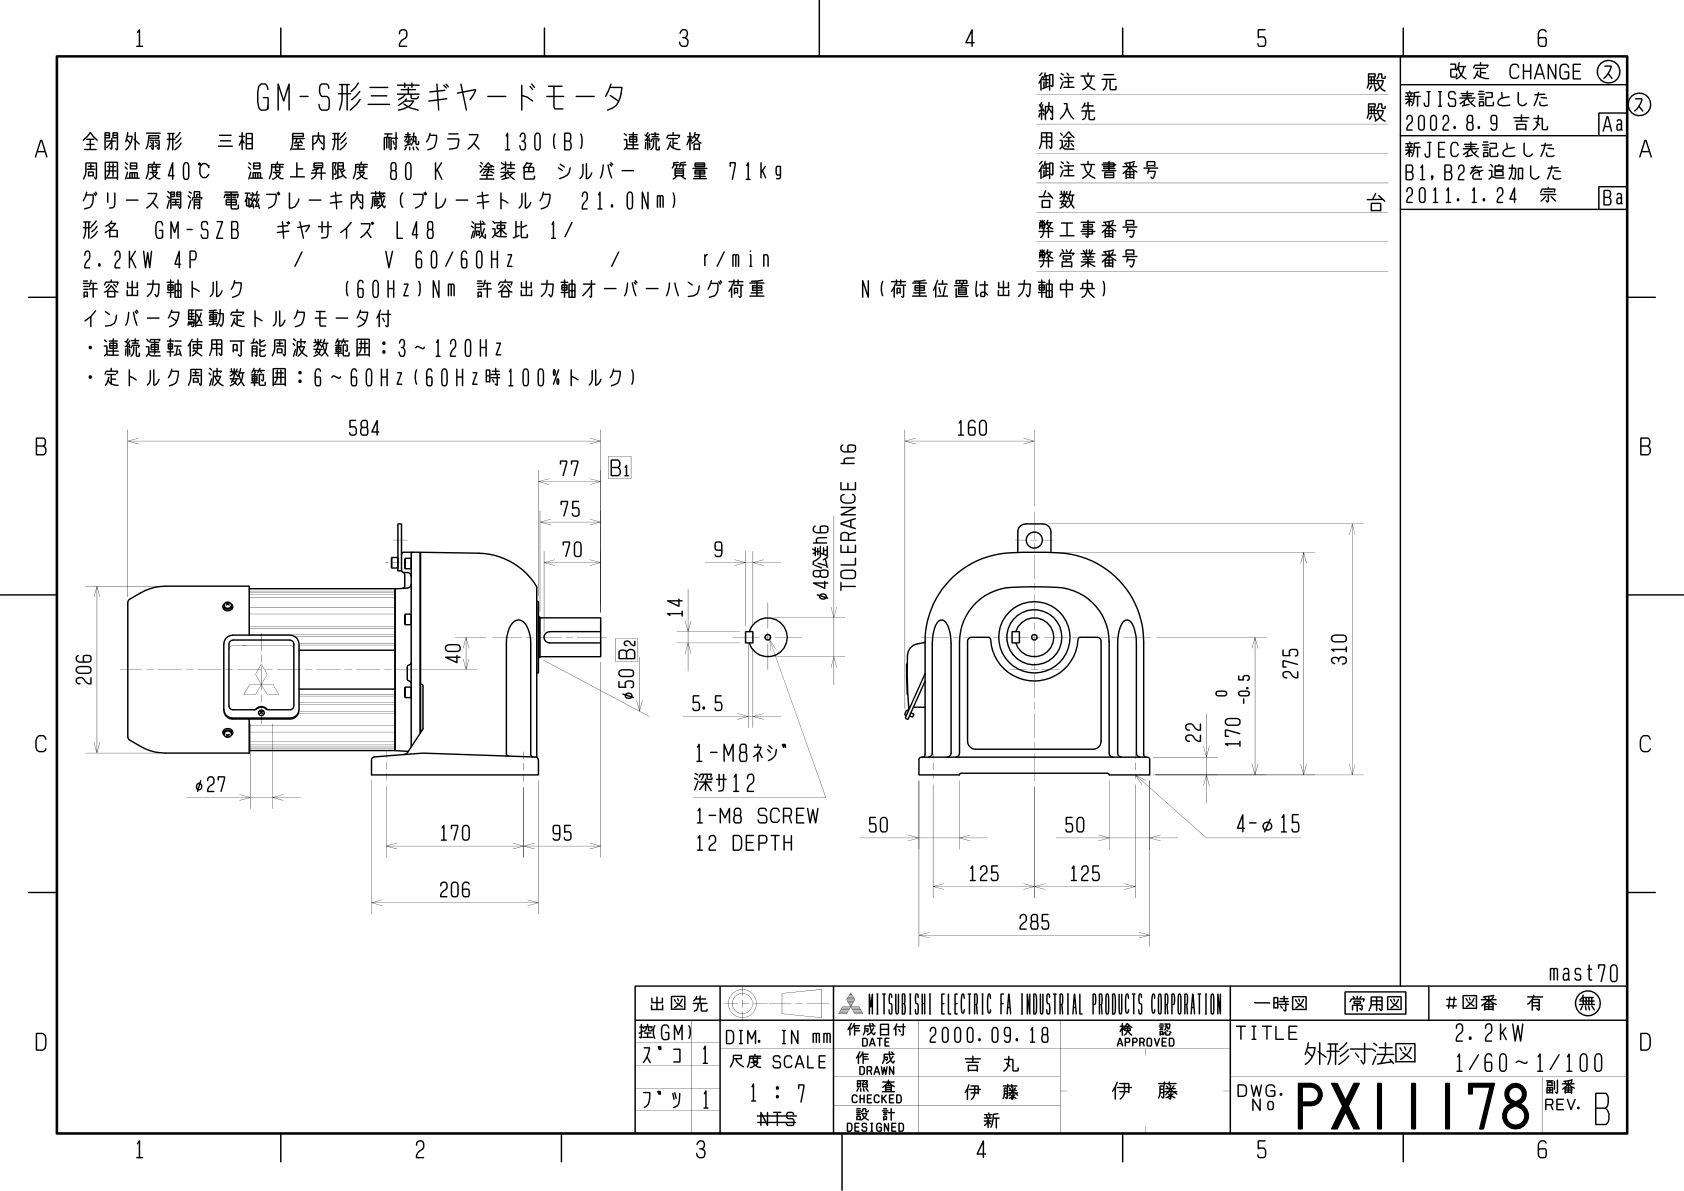GM_S_インバタ屋内＿三相_脚: (6, 6, 1684, 1191)
